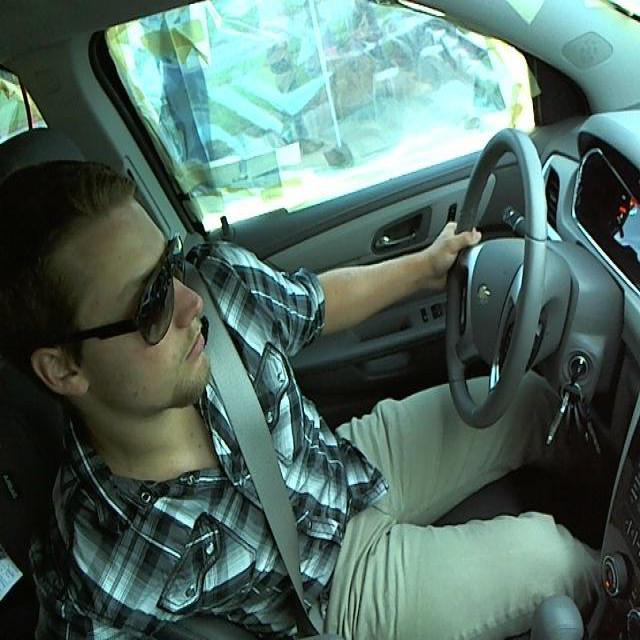seatbelt: (213, 376, 310, 639)
